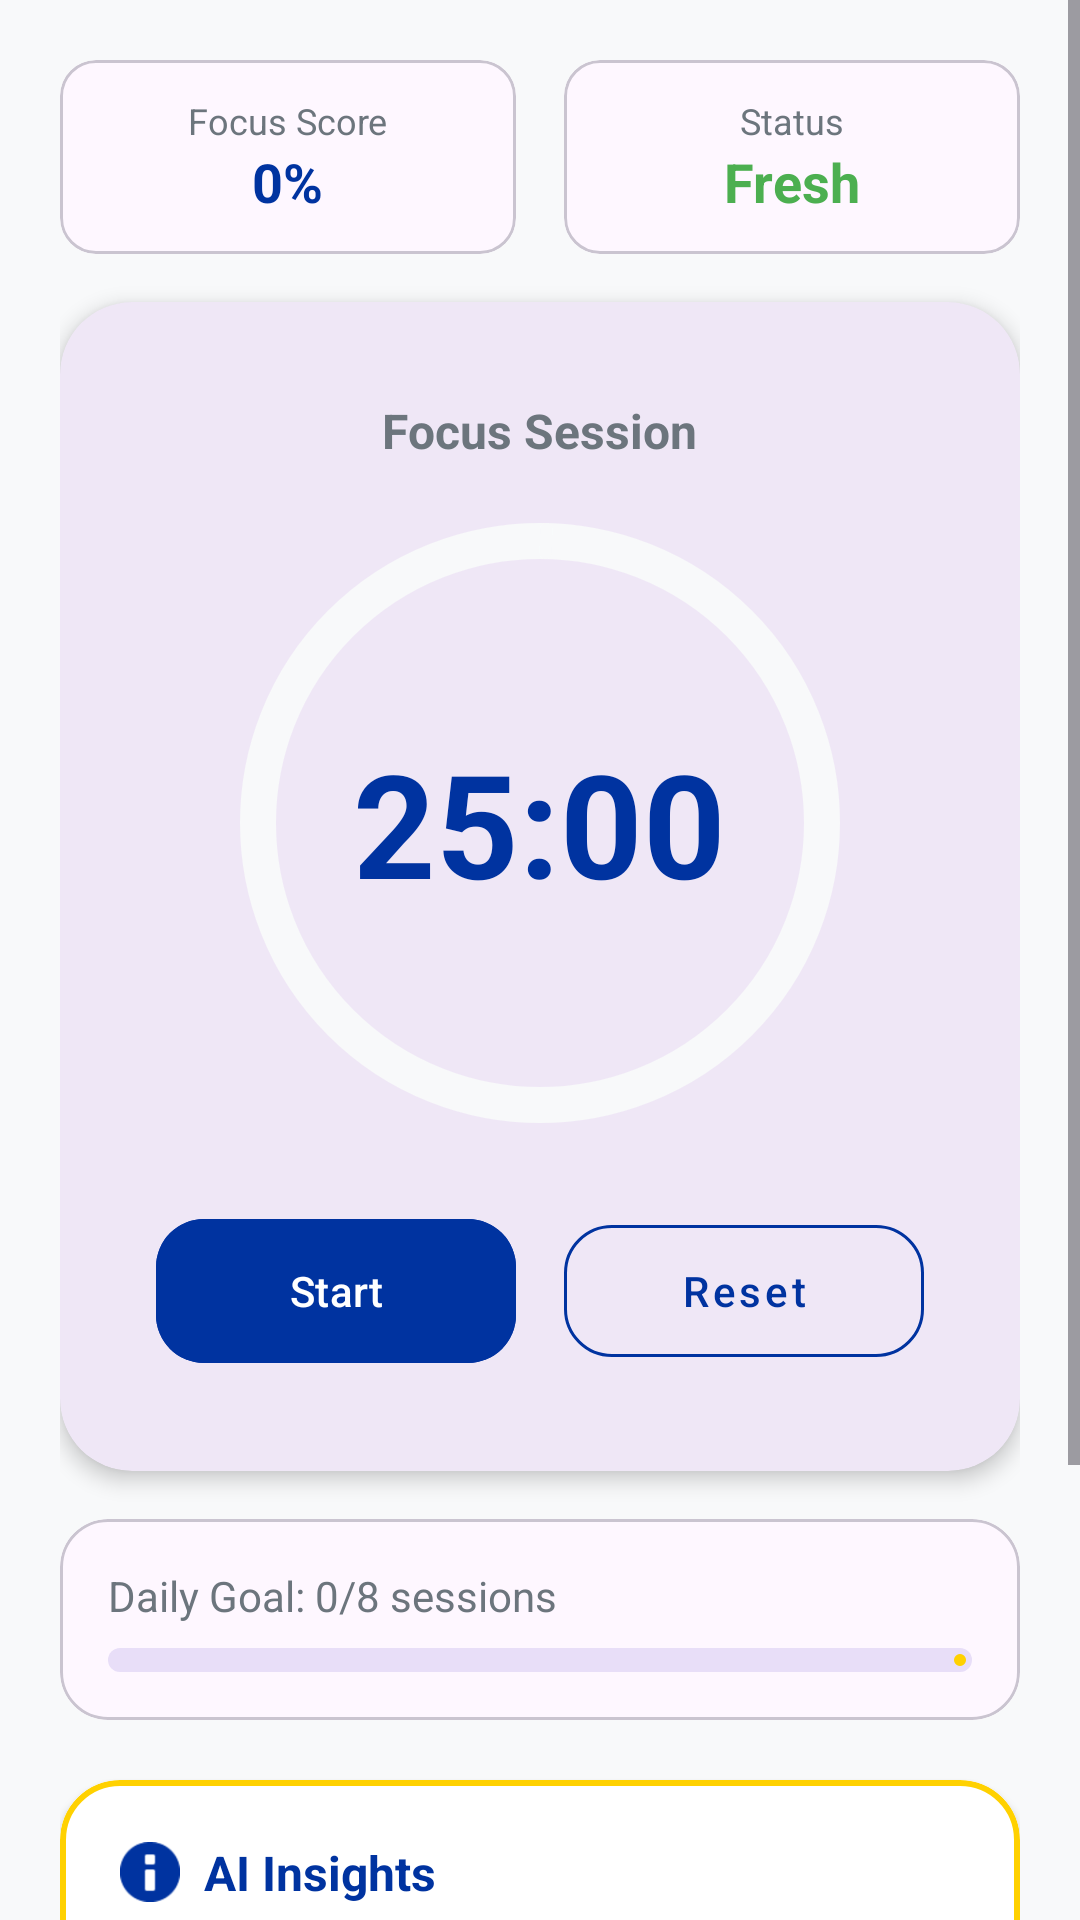

Icon bounding boxes for this 1080×1920 phone screenshot, format [left=x1, top=y1, right=x2, bottom=y2]:
info: [left=120, top=1842, right=180, bottom=1902]
